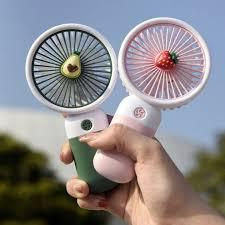fan: (94, 17, 209, 183), (25, 24, 115, 191)
